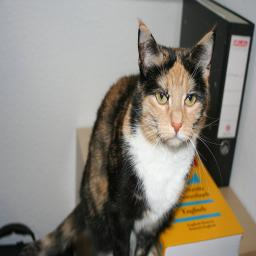catnose: (170, 120, 182, 134)
